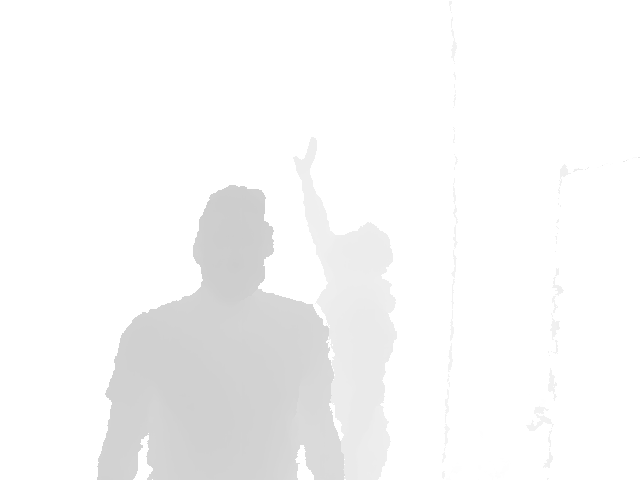hand: (293, 137, 317, 176)
head: (194, 183, 273, 295), (335, 223, 393, 290)
person: (95, 183, 347, 480), (292, 136, 398, 480)
